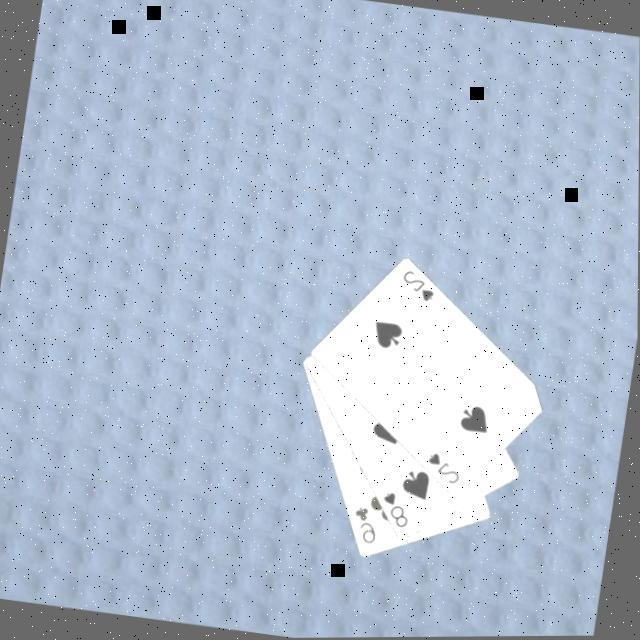2S: (422, 451, 467, 492), (398, 270, 442, 310)
8S: (377, 490, 416, 534)
9C: (349, 505, 385, 551)
